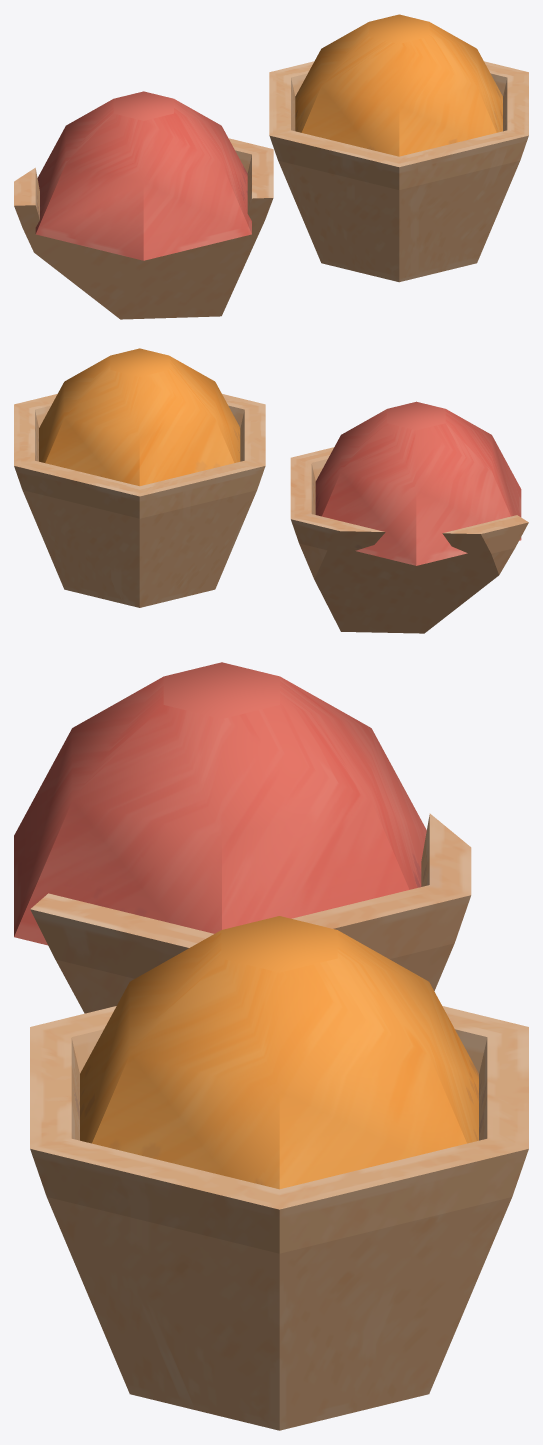
Rendered from baskets_s02.fbx.
3 renders of one model, top to bottom at view 1: azimuth 30°, elevation 25°; view 2: azimuth 150°, elevation 25°; view 3: azimuth 270°, elevation 25°, orthographic. The views are drawn at different scales.
Parts seen in each view (by area): view 1: baskets_s02; view 2: baskets_s02; view 3: baskets_s02.
Boxes of the visible parts, x1,y1,x2,y2 form: baskets_s02: (14,14,528,319); baskets_s02: (14,348,528,633); baskets_s02: (14,662,528,1430).
Size of the model in its own units: 2.42 by 0.95 by 1.07.
